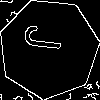J: (23, 23, 72, 53)
